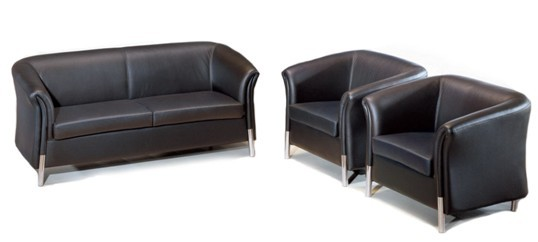chairs: (11, 41, 261, 189), (359, 73, 531, 233), (279, 44, 428, 188)
